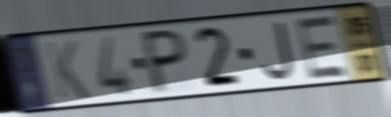2: (193, 25, 244, 90)
4: (97, 34, 134, 99)
E: (293, 12, 352, 83)
J: (260, 19, 297, 83)
K: (43, 39, 92, 101)
P: (141, 27, 189, 98)
